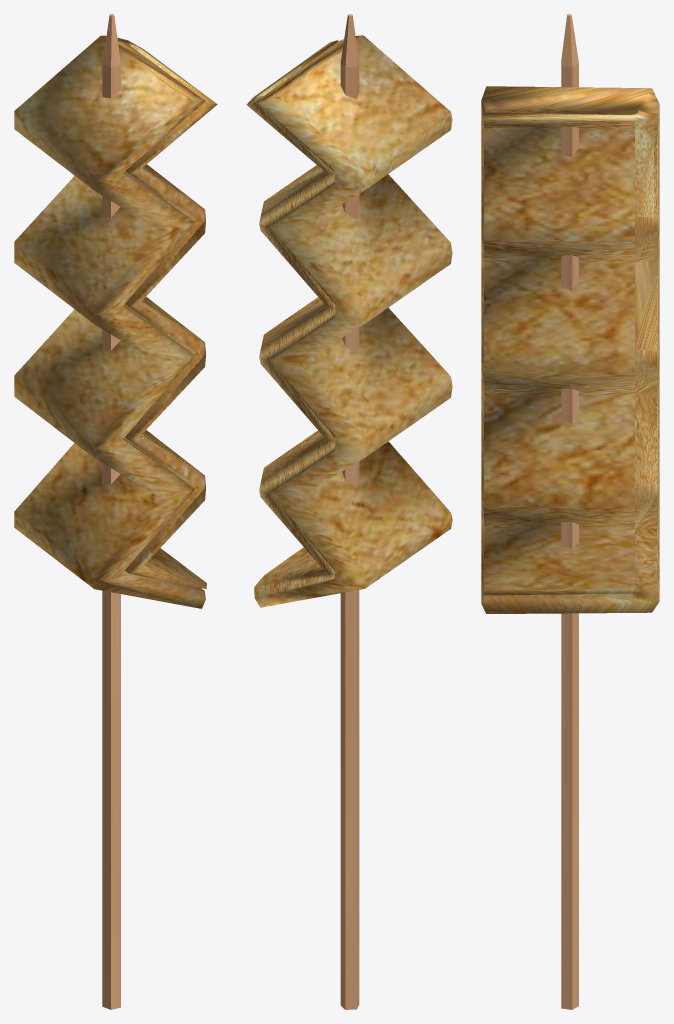
Rendered from Fishcake_skewer.fbx.
The picture shows the model from 3 angles, left to right: view 1: azimuth 30°, elevation 25°; view 2: azimuth 150°, elevation 25°; view 3: azimuth 270°, elevation 25°; orthographic projection.
Parts seen in each view (by area): view 1: Cube, Cylinder; view 2: Cube, Cylinder; view 3: Cube, Cylinder.
Part boxes in pixels (bbox=[...]): Cube: bbox=[14, 35, 217, 608]; Cylinder: bbox=[102, 14, 120, 1009]; Cube: bbox=[246, 35, 452, 607]; Cylinder: bbox=[340, 14, 359, 1009]; Cube: bbox=[481, 86, 659, 613]; Cylinder: bbox=[561, 14, 578, 1009].
Bounding box in the file's own units: 43.22 × 327 × 53.4.
2 materials, 2 textured.
